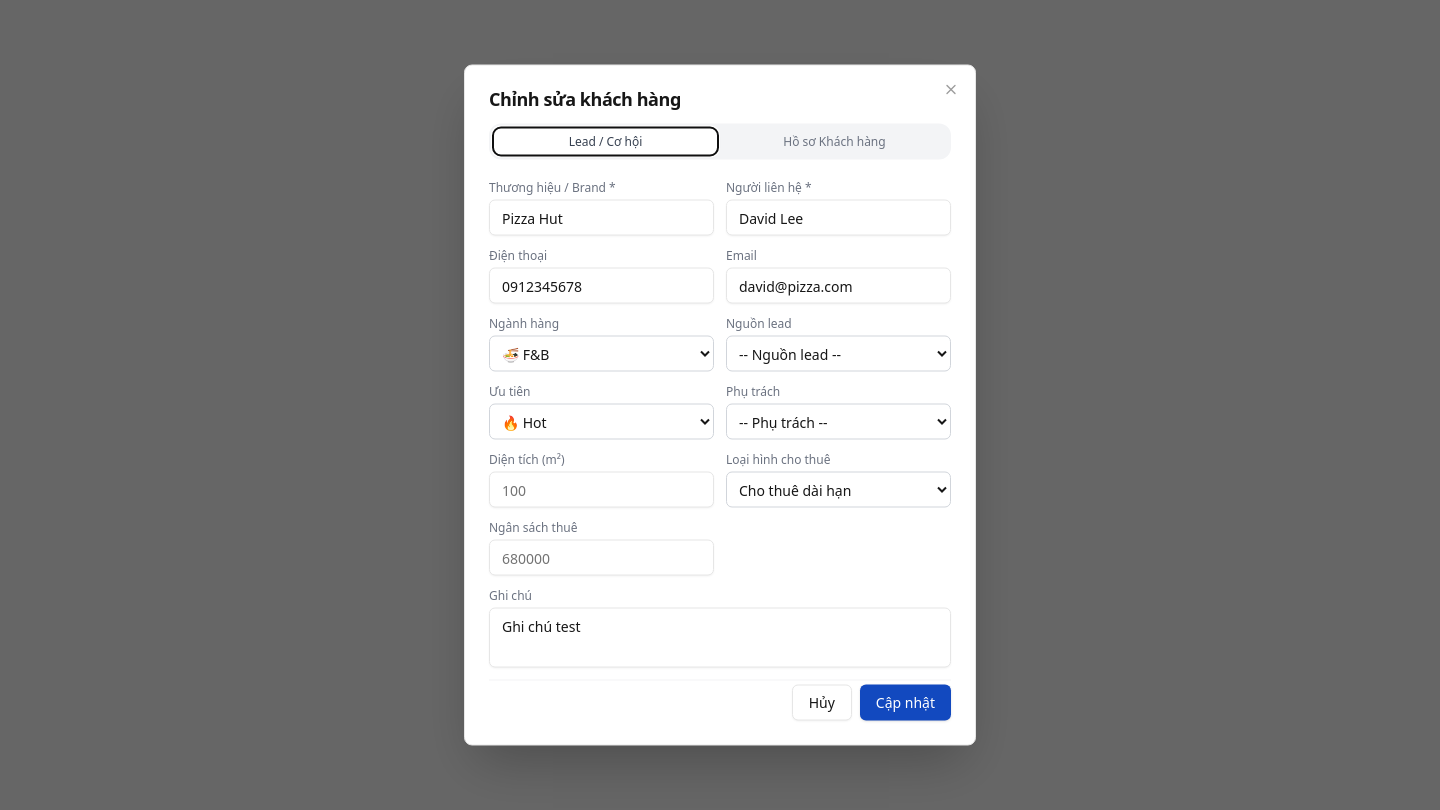
Test: LeadEditDialog — form render › hiển thị đúng dữ liệu lead khi mở dialog
Check: the field showing "Pizza Hut" below "Thương hiệu / Brand" is shown, box [489,200,714,236]
Check: the field showing "David Lee" below "Người liên hệ" is shown, box [726,200,951,236]
Click the button "Hồ sơ Khách hàng". click: [834, 142]
box: [722,128,947,156]
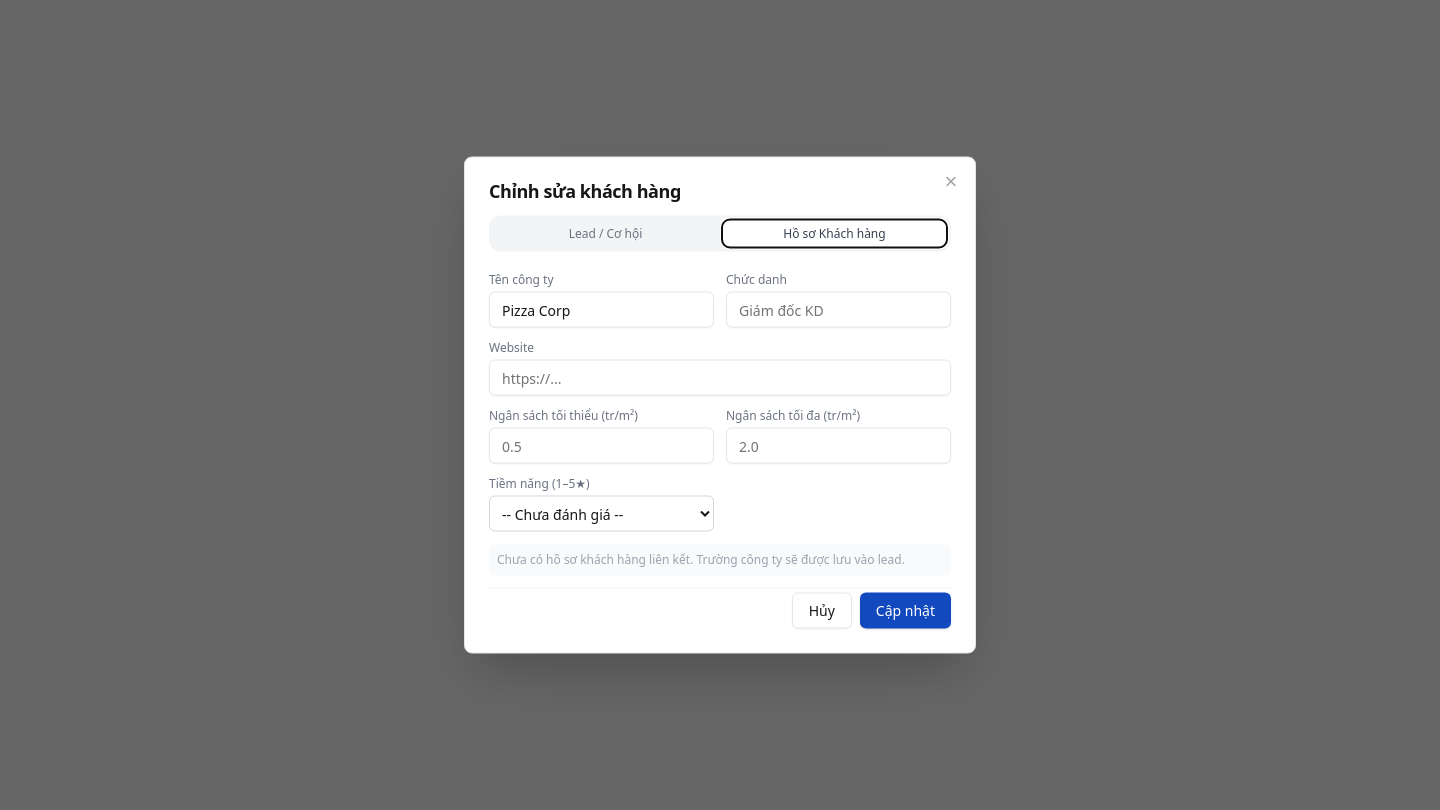
Check: the field showing "Pizza Corp" is shown, box [489,292,714,328]
